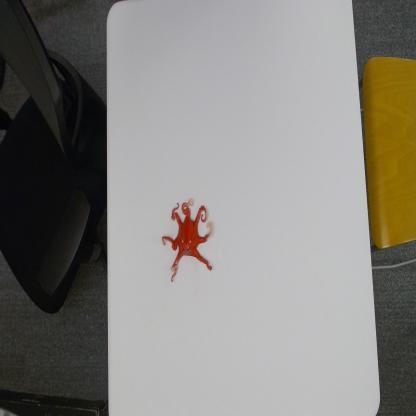Octopus: (161, 196, 214, 286)
